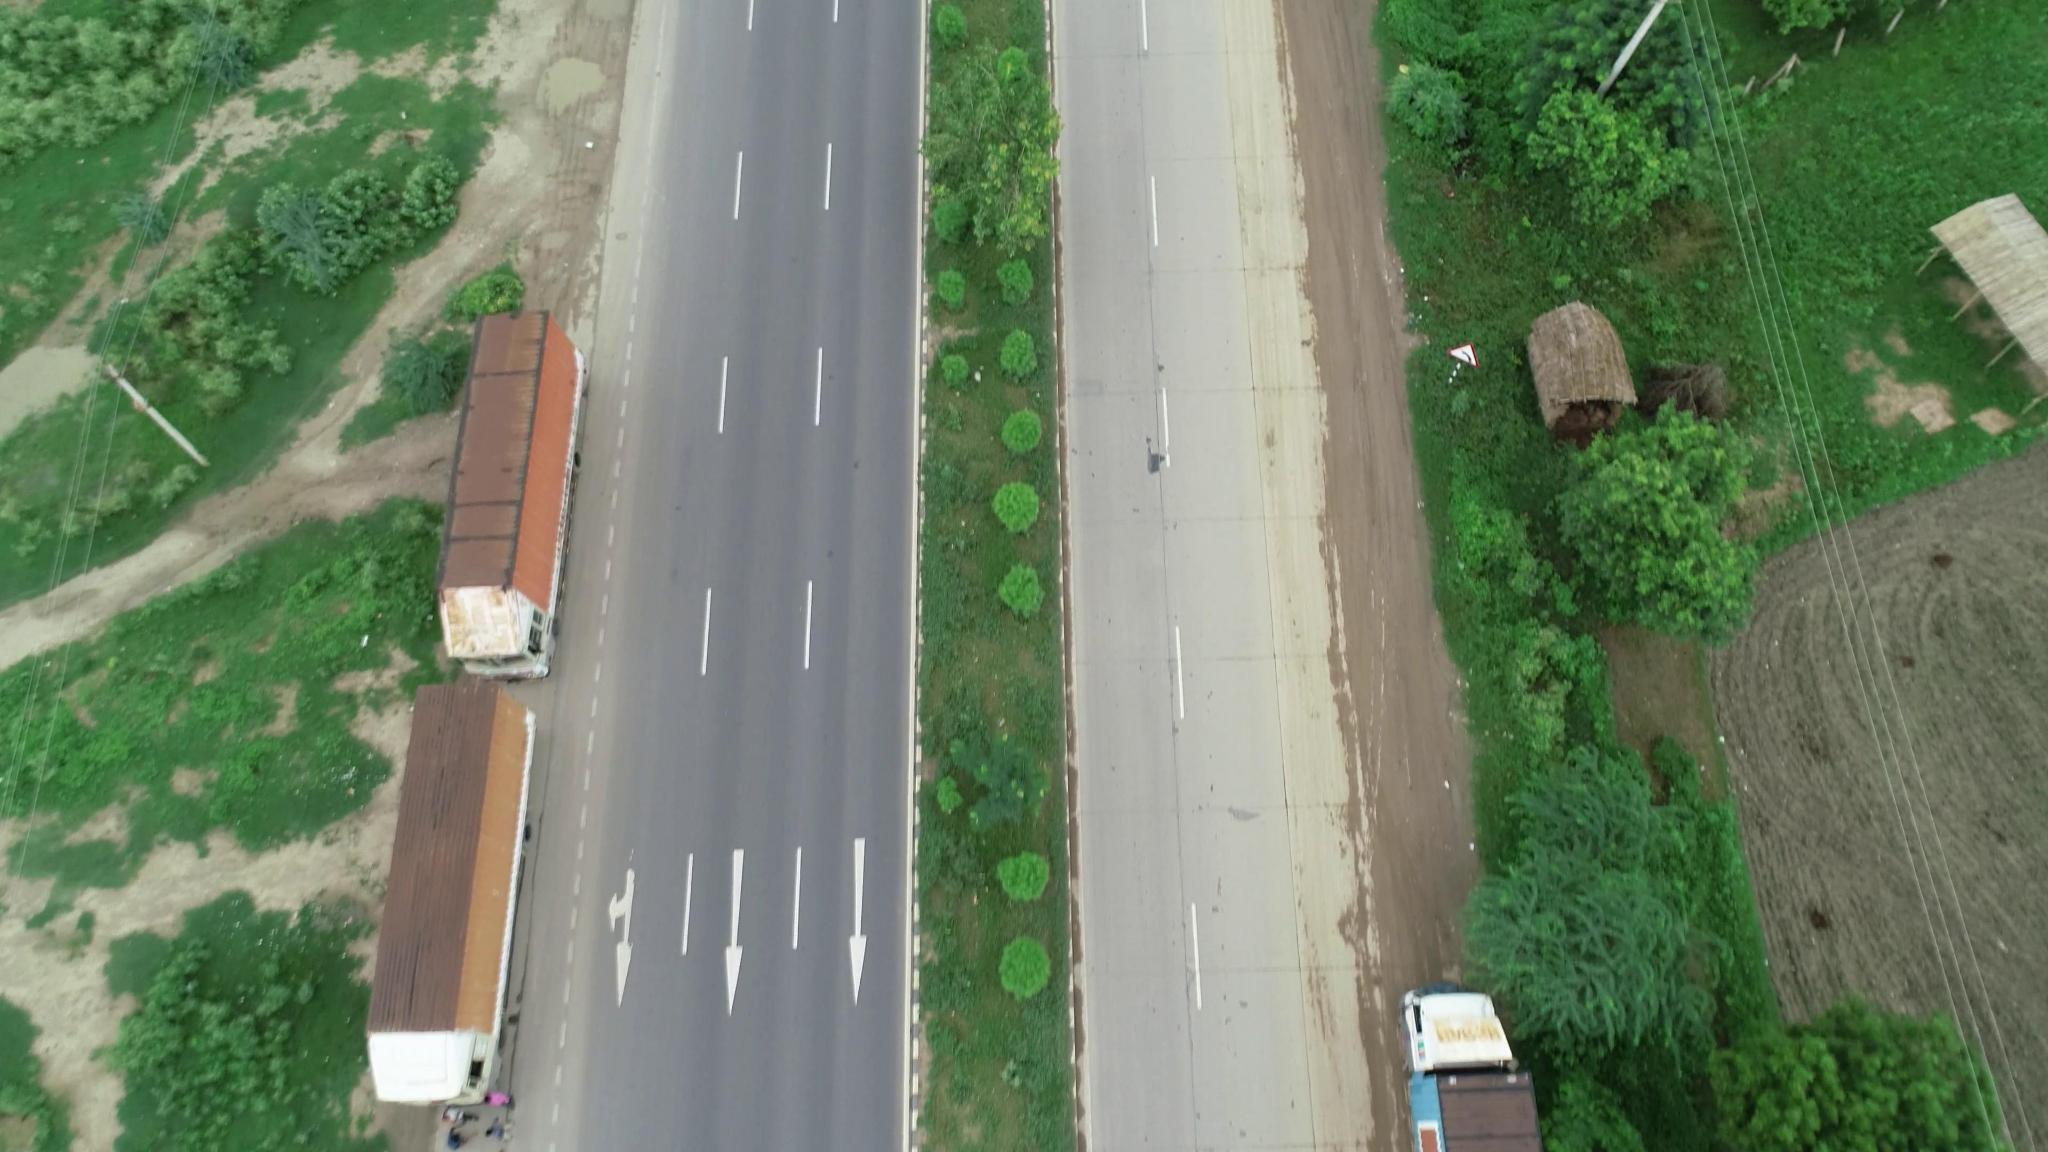Muddy_road: (1286, 475, 1442, 911), (1246, 32, 1407, 454)
